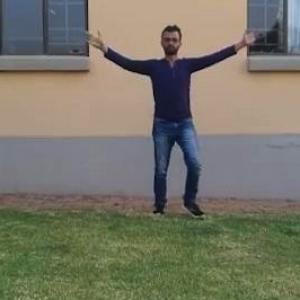takeoff: (78, 21, 247, 203)
